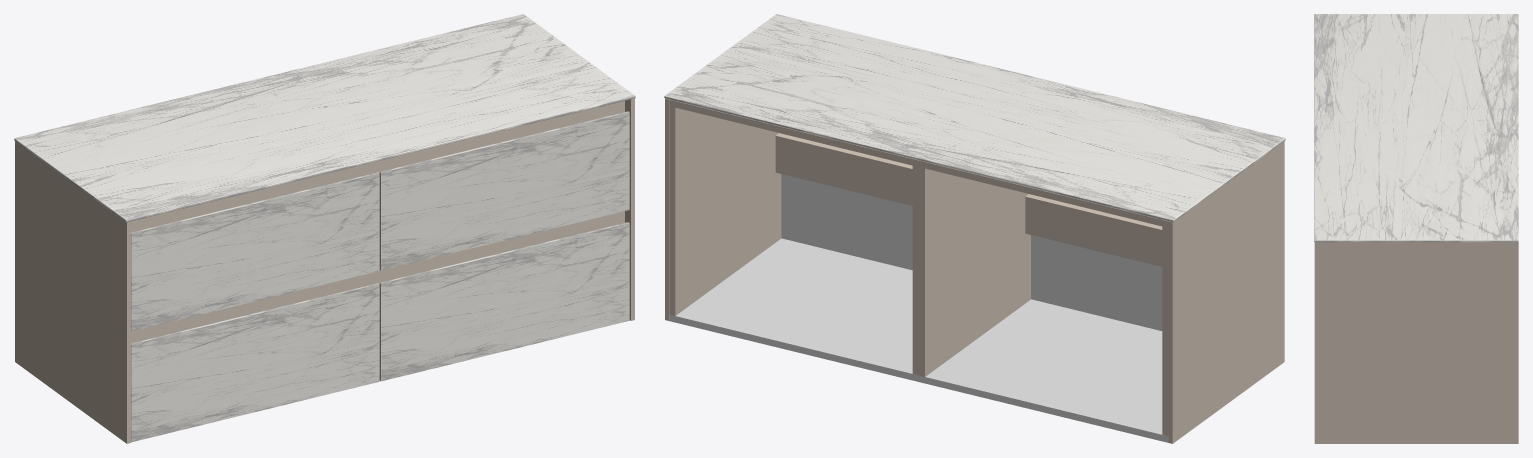
3 views of the same model, side by side, from view 1: azimuth 30°, elevation 25°; view 2: azimuth 150°, elevation 25°; view 3: azimuth 270°, elevation 25° (orthographic). The views are drawn at different scales.
Parts seen in each view (by area): view 1: EL05; view 2: EL05; view 3: EL05.
Part boxes in pixels (x1,y1,x2,y2): EL05: (14,14,635,443); EL05: (664,14,1285,443); EL05: (1314,14,1518,443).
Bounding box in the file's own units: 1.3 × 0.546 × 0.496.
Materials: 4 (1 with a texture image).
